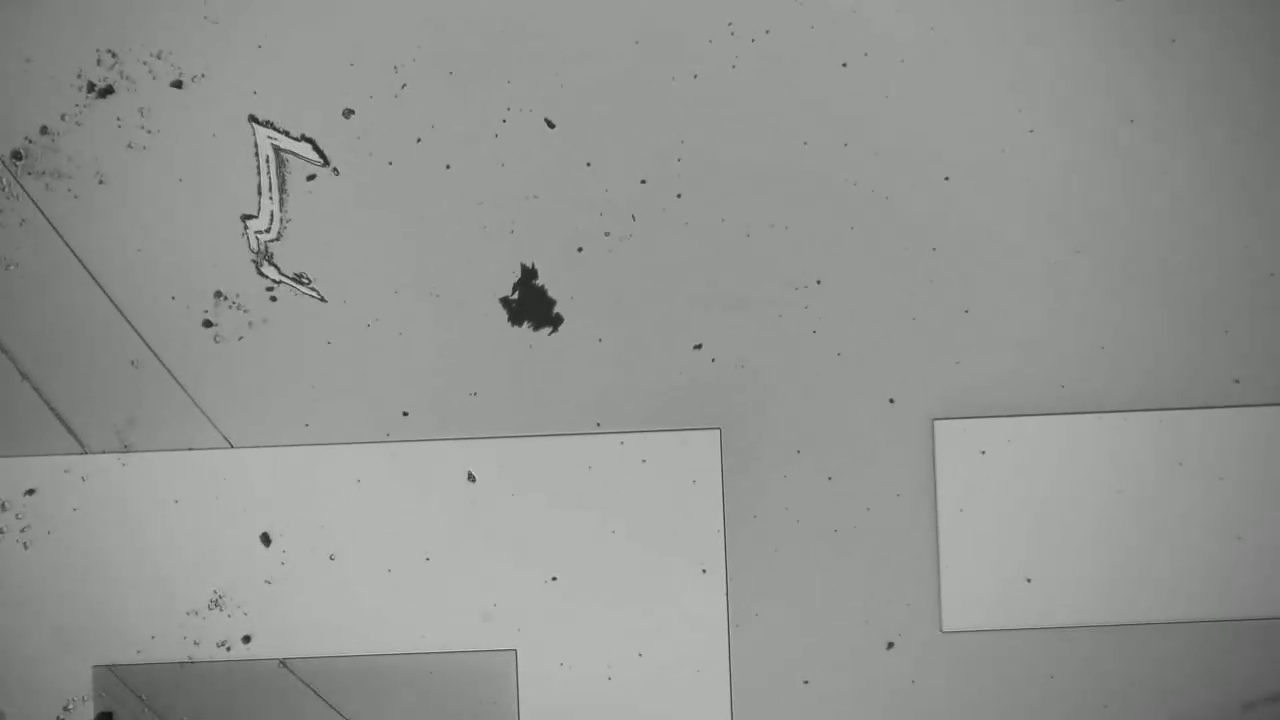scratch: (0, 154, 239, 445), (0, 354, 92, 464), (260, 664, 347, 719)
